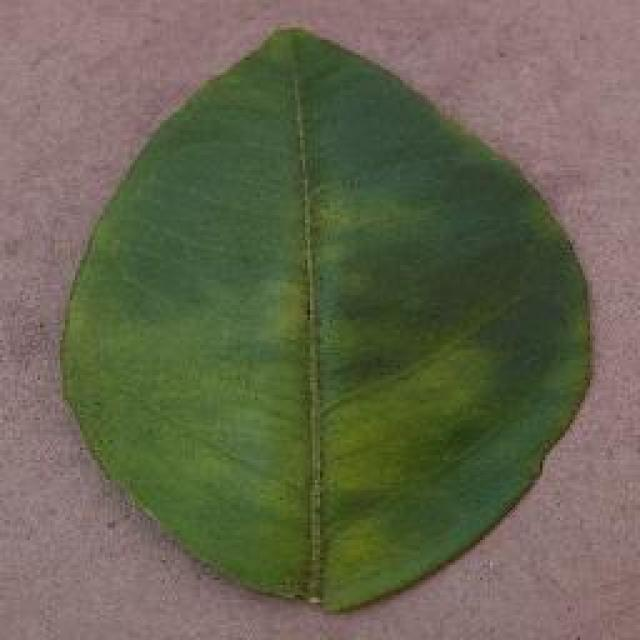Orange_Haunglongbing_Citrus_greening: (110, 94, 505, 551)
